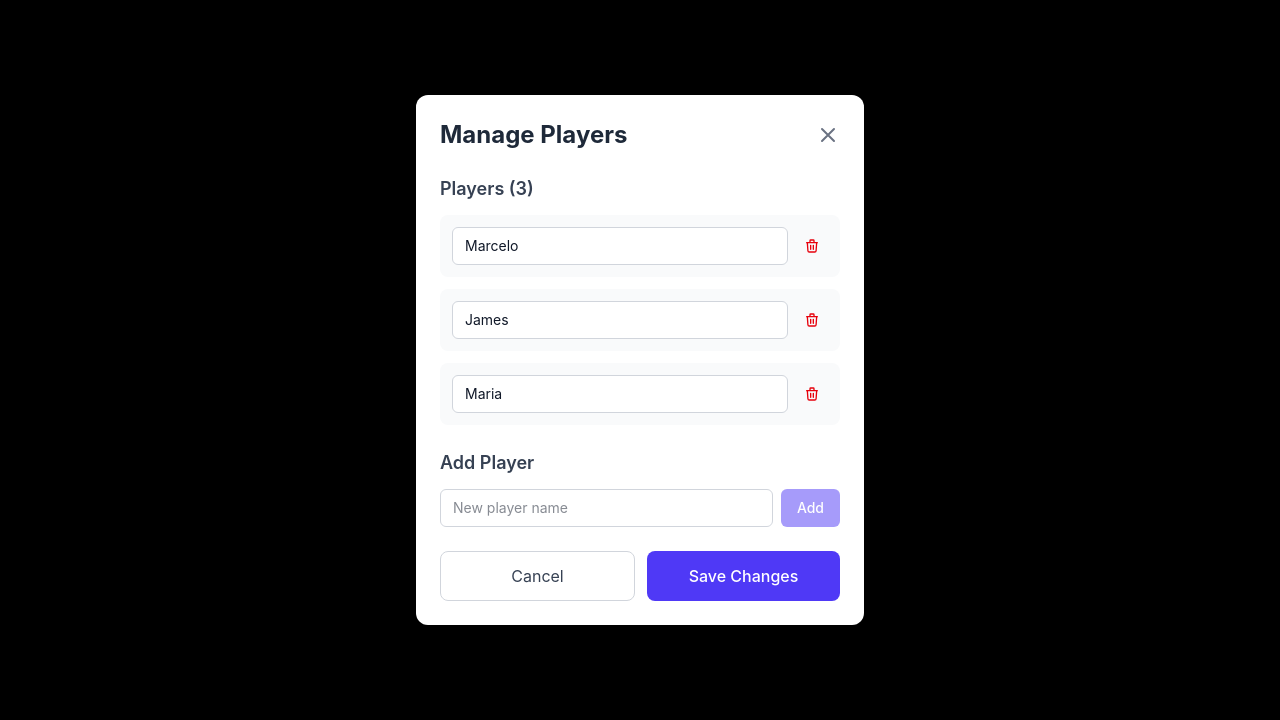
PlayerManagerModal › shows confirmation when trying to remove a player with records
The width and height of the screenshot is (1280, 720).
Click the 1st button titled "Remove player": x=812, y=246 [796, 230, 828, 262]
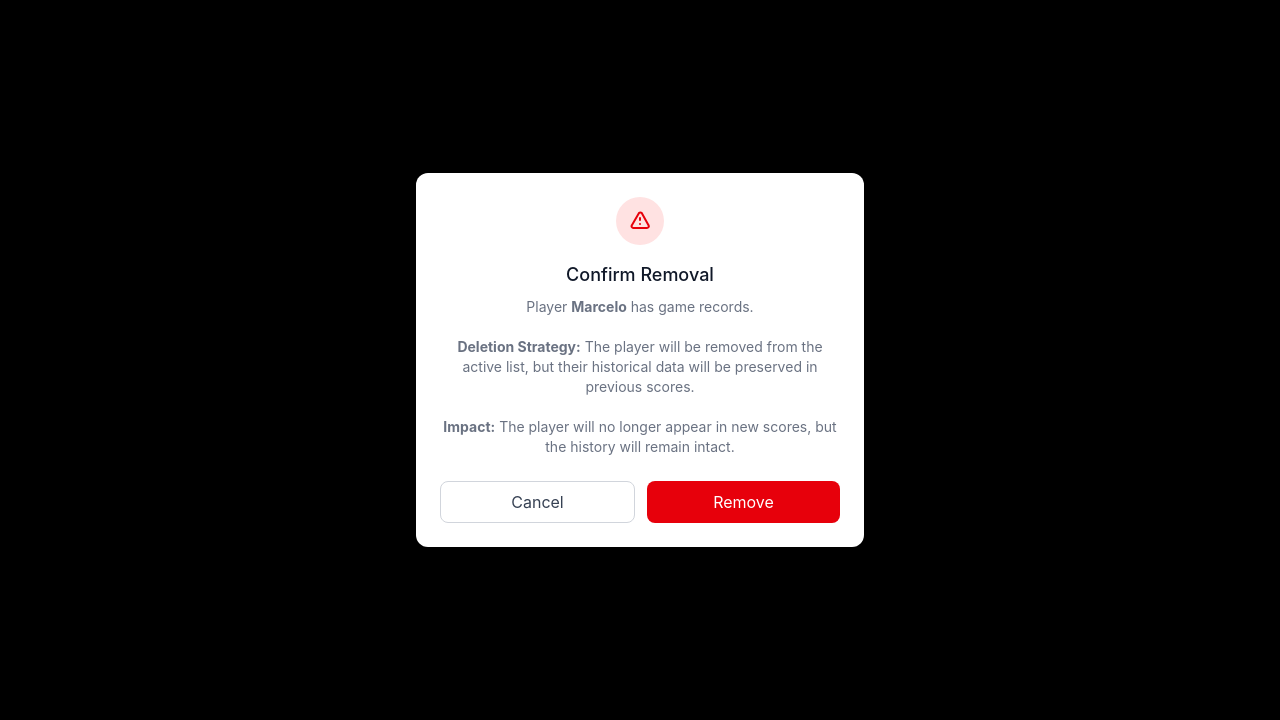
Expected: the heading "Confirm Removal" is shown, [566, 264, 714, 285]
Expected: the text "Marcelo" is shown, [571, 298, 627, 315]
Expected: the text "has game records" is shown, [627, 298, 754, 315]
